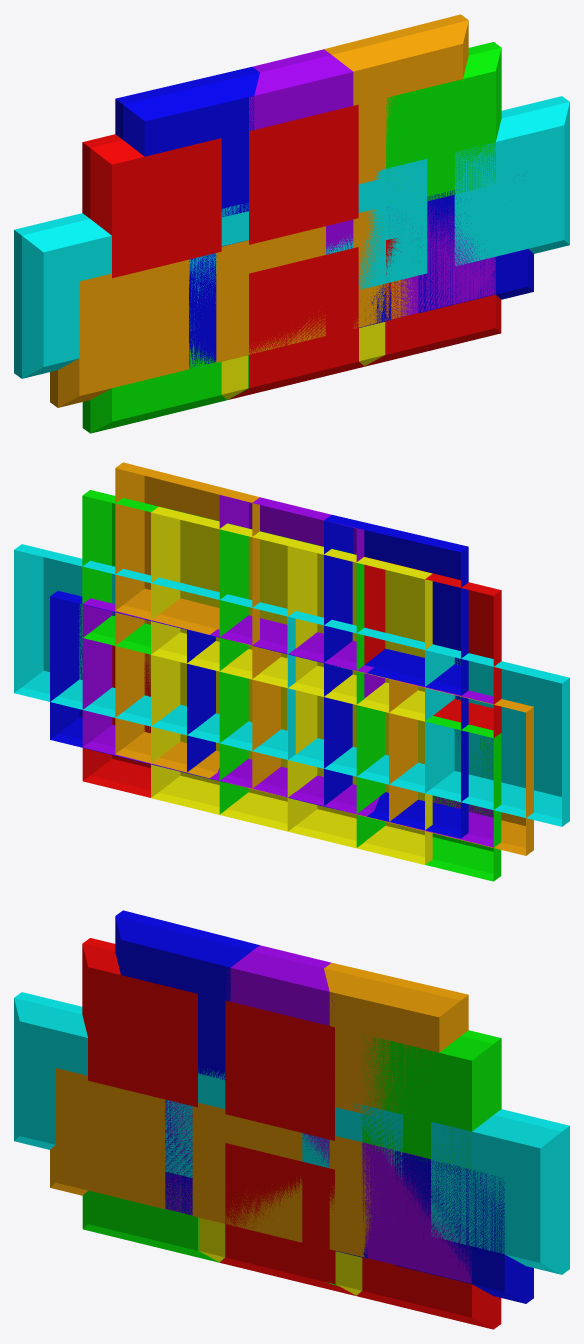
Rendered from msh_tetris.fbx.
The picture shows the model from 3 angles, top to bottom: view 1: azimuth 30°, elevation 25°; view 2: azimuth 150°, elevation 25°; view 3: azimuth 330°, elevation 25°; orthographic projection.
Parts seen in each view (by area): view 1: msh_Z_R, msh_I_bleuC, msh_L_orange, msh_L_bleuF, msh_Z_V, msh_PIQUE_V, msh_Cube_jaune; view 2: msh_Cube_jaune, msh_I_bleuC, msh_L_bleuF, msh_L_orange, msh_Z_V, msh_PIQUE_V, msh_Z_R; view 3: msh_Z_R, msh_L_orange, msh_I_bleuC, msh_L_bleuF, msh_Z_V, msh_PIQUE_V, msh_Cube_jaune.
Boxes of the visible parts, x1,y1,x2,y2 form: msh_Z_R: (82, 104, 501, 399); msh_I_bleuC: (14, 96, 569, 378); msh_L_orange: (50, 14, 468, 407); msh_L_bleuF: (115, 67, 533, 367); msh_Z_V: (82, 42, 501, 433); msh_PIQUE_V: (189, 49, 495, 367); msh_Cube_jaune: (221, 322, 385, 399); msh_Cube_jaune: (151, 507, 432, 864); msh_I_bleuC: (14, 544, 569, 826); msh_L_bleuF: (50, 515, 468, 838); msh_L_orange: (115, 462, 533, 855); msh_Z_V: (82, 490, 501, 881); msh_PIQUE_V: (82, 495, 493, 847); msh_Z_R: (82, 556, 501, 797); msh_Z_R: (82, 938, 501, 1329); msh_L_orange: (50, 963, 468, 1257); msh_I_bleuC: (14, 992, 569, 1274); msh_L_bleuF: (115, 910, 533, 1303); msh_Z_V: (82, 1030, 501, 1286); msh_PIQUE_V: (165, 945, 471, 1283); msh_Cube_jaune: (198, 1218, 362, 1295).
Bounding box in the file's own units: 400 × 224 × 20.28.
